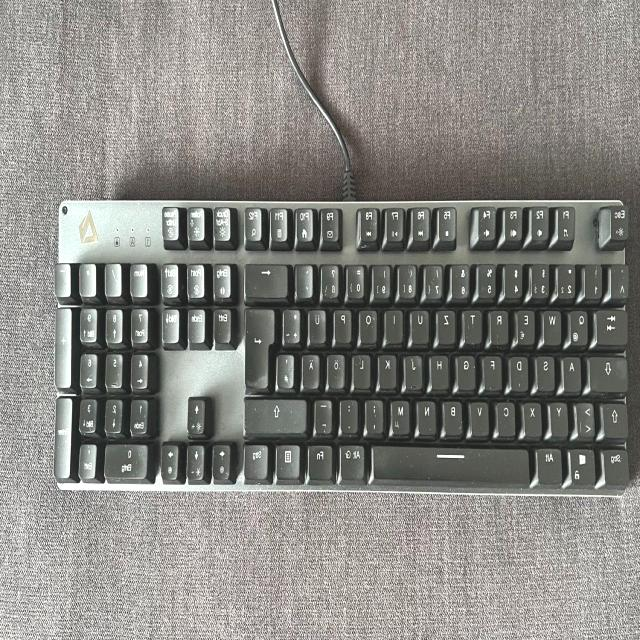0: (347, 261, 368, 298)
1: (585, 261, 605, 299)
2: (558, 261, 578, 299)
3: (532, 259, 552, 299)
4: (505, 260, 524, 298)
5: (478, 259, 498, 299)
6: (451, 260, 471, 300)
7: (425, 261, 445, 299)
8: (398, 261, 418, 299)
9: (372, 261, 393, 299)
a: (564, 353, 583, 391)
accent: (297, 261, 316, 297)
ae: (303, 350, 322, 388)
alt-left: (537, 445, 565, 483)
altgr-right: (340, 442, 368, 480)
b: (444, 397, 465, 434)
c: (497, 399, 517, 435)
caret: (612, 261, 632, 297)
comma: (365, 396, 385, 434)
d: (510, 352, 530, 390)
del: (246, 260, 290, 297)
e: (517, 307, 536, 345)
enter: (246, 305, 277, 387)
f: (484, 352, 503, 389)
g: (457, 351, 477, 388)
h: (431, 352, 451, 388)
hash: (278, 350, 296, 388)
i: (386, 307, 405, 342)
j: (405, 352, 424, 388)
k: (379, 351, 399, 388)
keyboard: (50, 191, 638, 502)
l: (354, 351, 373, 388)
less: (577, 399, 596, 437)
m: (392, 396, 412, 434)
minus: (315, 397, 335, 434)
n: (417, 397, 438, 435)
o: (360, 306, 379, 342)
oe: (328, 351, 347, 388)
p: (335, 306, 354, 342)
plus: (284, 305, 303, 343)
point: (341, 396, 360, 432)
q: (571, 308, 591, 346)
r: (490, 307, 510, 343)
s: (537, 352, 557, 390)
shift-left: (603, 400, 630, 436)
shift-lock: (590, 353, 630, 391)
shift-right: (245, 395, 309, 433)
space: (372, 442, 532, 484)
ss: (322, 261, 343, 299)
strg-left: (603, 445, 631, 483)
strg-right: (245, 441, 271, 479)
t: (463, 307, 483, 343)
tab: (596, 307, 630, 345)
u: (412, 307, 431, 343)
ue: (310, 307, 328, 343)
v: (471, 398, 491, 435)
w: (544, 308, 563, 344)
x: (525, 399, 543, 435)
y: (551, 400, 570, 436)
z: (437, 307, 457, 343)
